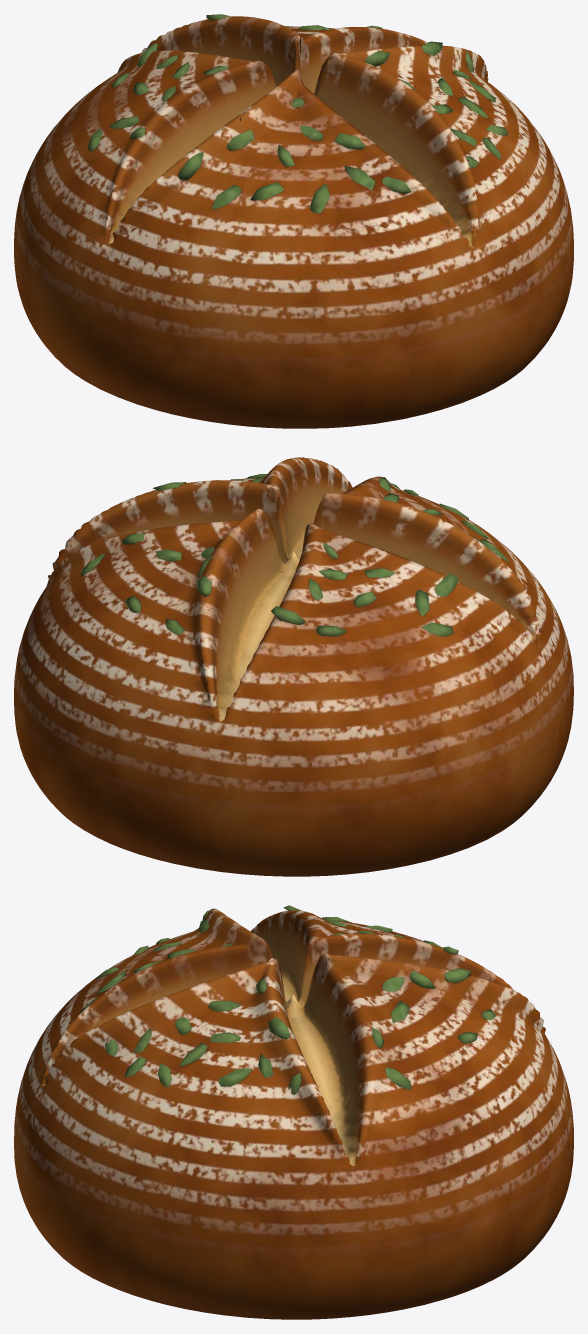
Rendered from campagne--pumpkin-seed.glb.
3 renders of one model, top to bottom at view 1: azimuth 30°, elevation 25°; view 2: azimuth 150°, elevation 25°; view 3: azimuth 270°, elevation 25°, orthographic.
Parts seen in each view (by area): view 1: campagne_pumpkin-seed; view 2: campagne_pumpkin-seed; view 3: campagne_pumpkin-seed.
Part boxes in pixels (<box>): campagne_pumpkin-seed: <box>14,14,573,428</box>; campagne_pumpkin-seed: <box>14,457,573,876</box>; campagne_pumpkin-seed: <box>14,905,573,1319</box>.
Size of the model in its own units: 0.9987 by 0.5303 by 0.9991.
Materials: 1 (1 with a texture image).
